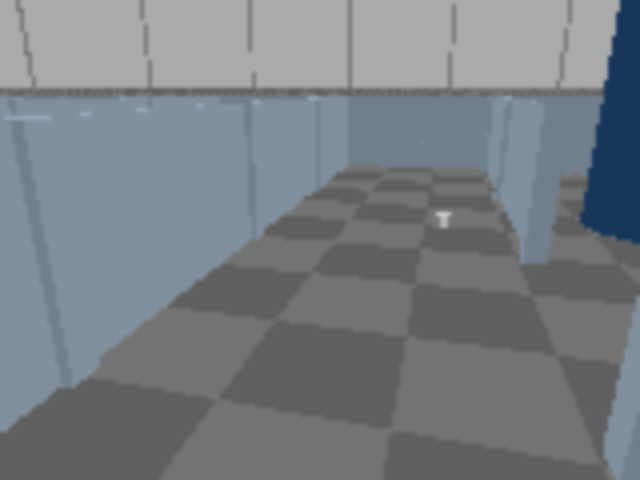person: (583, 0, 638, 249)
puck: (430, 211, 450, 228)
